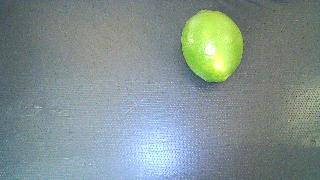EXPORTACION: (181, 10, 243, 82)
